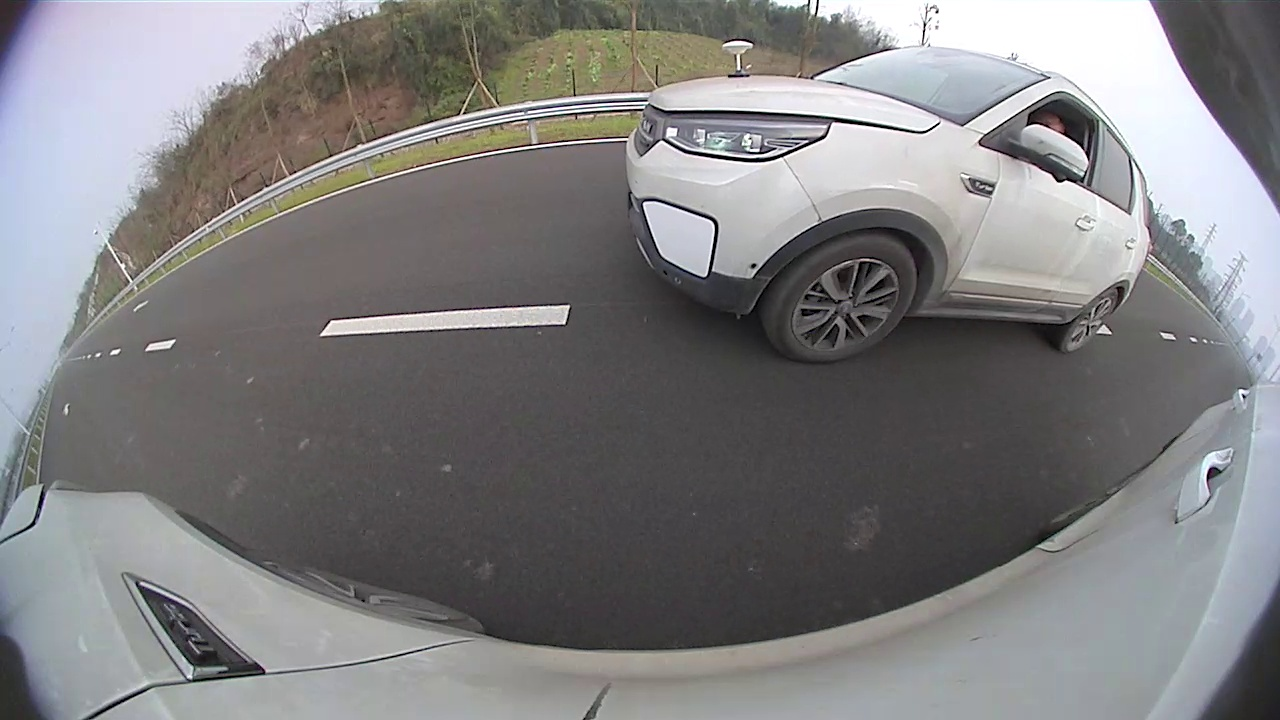car: (625, 40, 1154, 363)
front: (765, 235, 916, 363)
rear: (1060, 287, 1120, 353)
